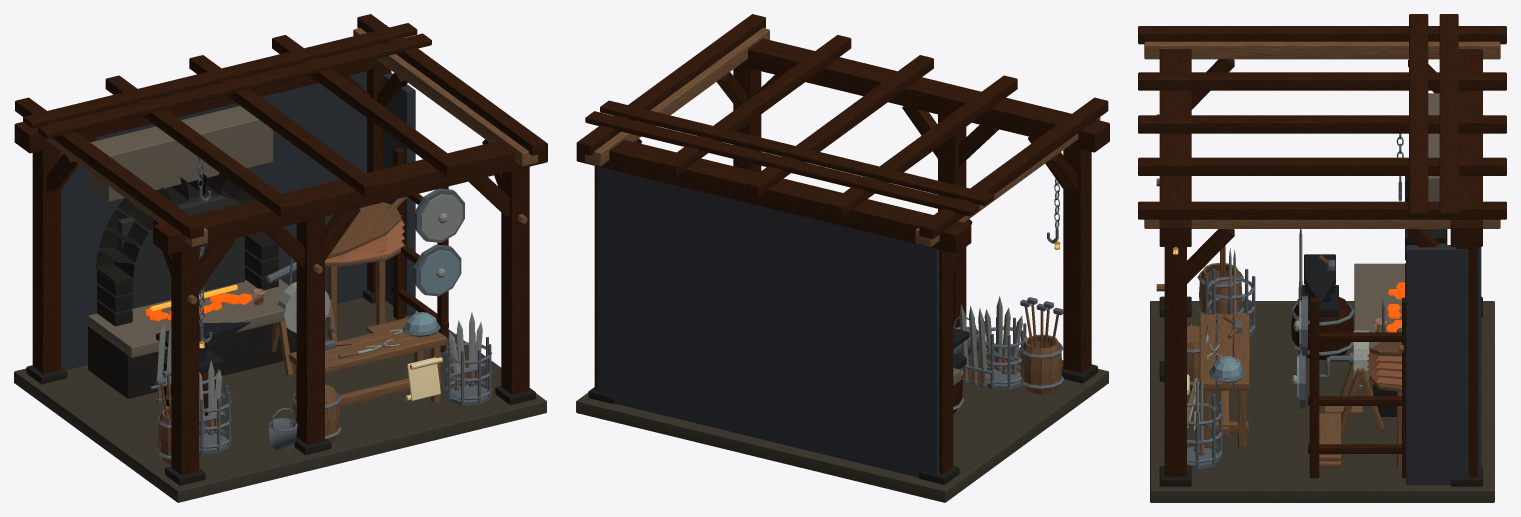
File: blacksmith_forge_diorama.glb
3 views of the same model, side by side, from view 1: azimuth 30°, elevation 25°; view 2: azimuth 150°, elevation 25°; view 3: azimuth 270°, elevation 25° (orthographic). The views are drawn at different scales.
Parts seen in each view (by area): view 1: Thick rectangular stone foundation, Rear slate workshop wall, Front and rear lintel, Forge hood above arch, Heavy timber upright, Heavy timber upright.001, Heavy timber upright.004, Heavy timber upright.002, Sparse roof board, Sparse roof board.001, Masonry hearth plinth, Broad hearth ledge (+36 smaller); view 2: Rear slate workshop wall, Thick rectangular stone foundation, Front and rear lintel.001, Front and rear lintel, Heavy timber upright, Sparse roof board, Sparse roof board.001, Exposed roof rafter.001, Exposed roof rafter, Exposed roof rafter.002, Exposed roof rafter.003, Exposed roof rafter.004 (+9 smaller); view 3: Thick rectangular stone foundation, Right rear wall return, Exposed roof rafter.004, Exposed roof rafter.001, Exposed roof rafter.002, Exposed roof rafter.003, Side longitudinal plate, Exposed roof rafter, Heavy timber upright.001, Front and rear lintel, Sparse roof board, Sparse roof board.001 (+26 smaller).
Boxes of the visible parts, x1,y1,x2,y2 form: Thick rectangular stone foundation: [14, 297, 546, 502]; Rear slate workshop wall: [61, 71, 367, 370]; Front and rear lintel: [153, 140, 547, 254]; Forge hood above arch: [90, 106, 273, 201]; Heavy timber upright: [171, 247, 199, 475]; Heavy timber upright.001: [501, 166, 529, 394]; Heavy timber upright.004: [296, 216, 324, 444]; Heavy timber upright.002: [32, 147, 60, 373]; Sparse roof board: [23, 23, 417, 128]; Sparse roof board.001: [38, 33, 431, 138]; Masonry hearth plinth: [88, 323, 296, 398]; Broad hearth ledge: [88, 279, 288, 357]; Rear slate workshop wall: [597, 166, 939, 477]; Thick rectangular stone foundation: [576, 339, 1108, 502]; Front and rear lintel.001: [576, 139, 971, 253]; Front and rear lintel: [738, 38, 1109, 152]; Heavy timber upright: [1063, 146, 1091, 372]; Sparse roof board: [585, 111, 979, 216]; Sparse roof board.001: [600, 100, 993, 205]; Exposed roof rafter.001: [828, 75, 1017, 217]; Exposed roof rafter: [919, 97, 1108, 239]; Exposed roof rafter.002: [744, 55, 933, 196]; Exposed roof rafter.003: [662, 35, 851, 176]; Exposed roof rafter.004: [577, 14, 765, 155]; Thick rectangular stone foundation: [1150, 301, 1494, 502]; Right rear wall return: [1406, 245, 1468, 484]; Exposed roof rafter.004: [1138, 201, 1506, 219]; Exposed roof rafter.001: [1138, 72, 1506, 90]; Exposed roof rafter.002: [1138, 115, 1506, 133]; Exposed roof rafter.003: [1138, 157, 1506, 175]; Side longitudinal plate: [1144, 41, 1500, 59]; Exposed roof rafter: [1138, 26, 1506, 44]; Heavy timber upright.001: [1164, 247, 1186, 476]; Front and rear lintel: [1159, 49, 1191, 246]; Sparse roof board: [1439, 14, 1458, 217]; Sparse roof board.001: [1409, 14, 1428, 217].
Size of the model in its own units: 5.84 by 4.07 by 4.6.
202 materials, 134 textured.
